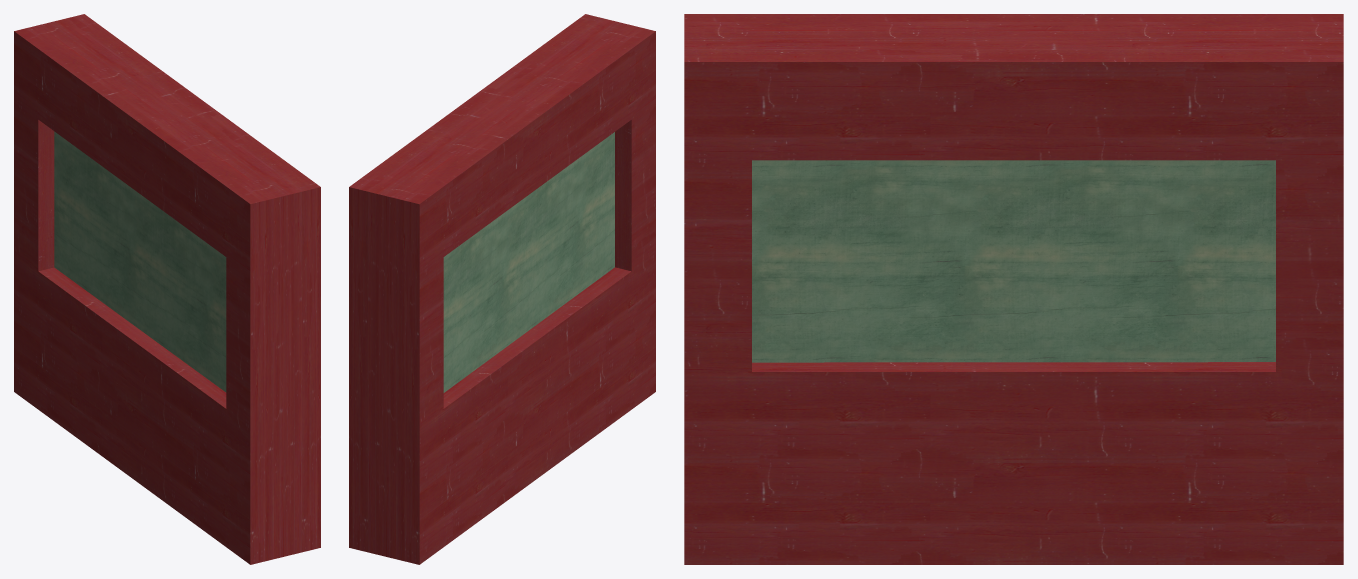
The model's file is SM_M_Handrail_11.fbx.
3 views of the same model, side by side, from view 1: azimuth 30°, elevation 25°; view 2: azimuth 150°, elevation 25°; view 3: azimuth 270°, elevation 25° (orthographic). The views are drawn at different scales.
Visible parts, largest first — view 1: SM_M_Handrail_11_LOD0; view 2: SM_M_Handrail_11_LOD0; view 3: SM_M_Handrail_11_LOD0.
Boxes of the visible parts, box(x1,y1,x2,y2) form: SM_M_Handrail_11_LOD0: box(14, 14, 320, 564); SM_M_Handrail_11_LOD0: box(349, 14, 655, 564); SM_M_Handrail_11_LOD0: box(684, 14, 1343, 564).
Size of the model in its own units: 11.65 by 67.72 by 57.
2 materials, 2 textured.
